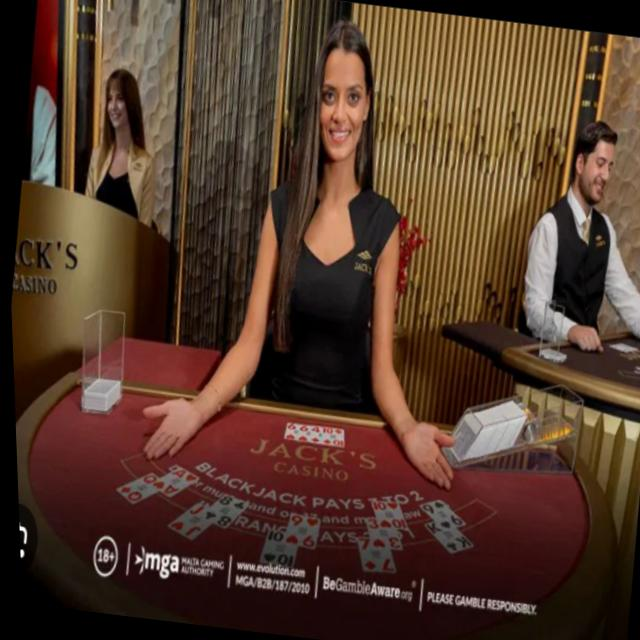Card-10: (254, 529, 293, 568), (368, 501, 403, 528), (317, 426, 341, 448)
Card-3: (361, 516, 398, 550)
Card-4: (306, 425, 318, 443)
Card-6: (280, 422, 296, 441), (294, 424, 308, 442)
Card-7: (353, 537, 391, 572)
Card-8: (200, 493, 244, 529)
Card-9: (415, 499, 461, 531), (280, 513, 316, 548)
Card-A: (148, 466, 195, 498)
Card-J: (163, 502, 207, 541)
Card-K: (420, 521, 468, 553)
Card-Q: (112, 471, 155, 504)
